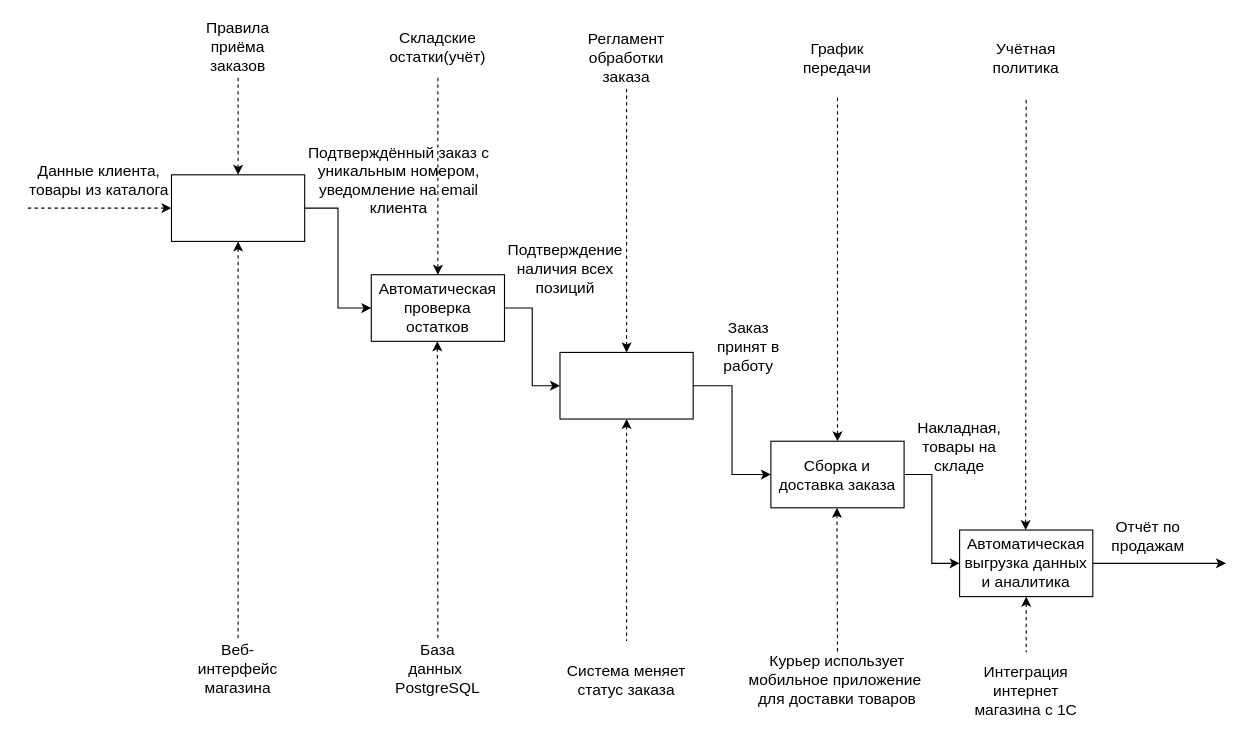
The diagram is 1254 pixels wide and 737 high, and some of its shapes have lost their labels. The centre of each missing label's shape, as x and y in pixels:
"Обработка заказа" belongs at (626,385).
"Самостоятельное оформление заказа клиентом" belongs at (237,207).
